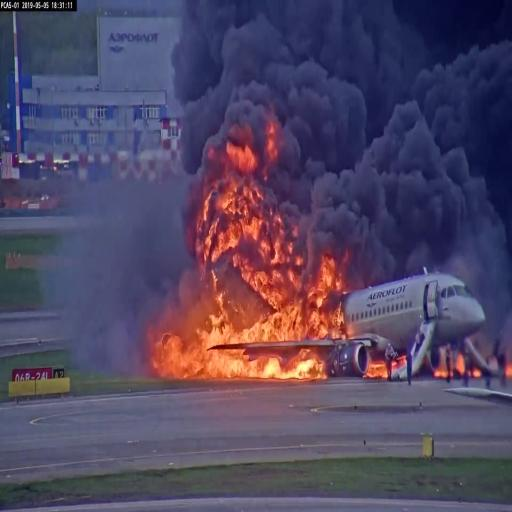fire: (200, 305, 324, 344), (177, 354, 321, 380)
smoke: (307, 115, 451, 267)
